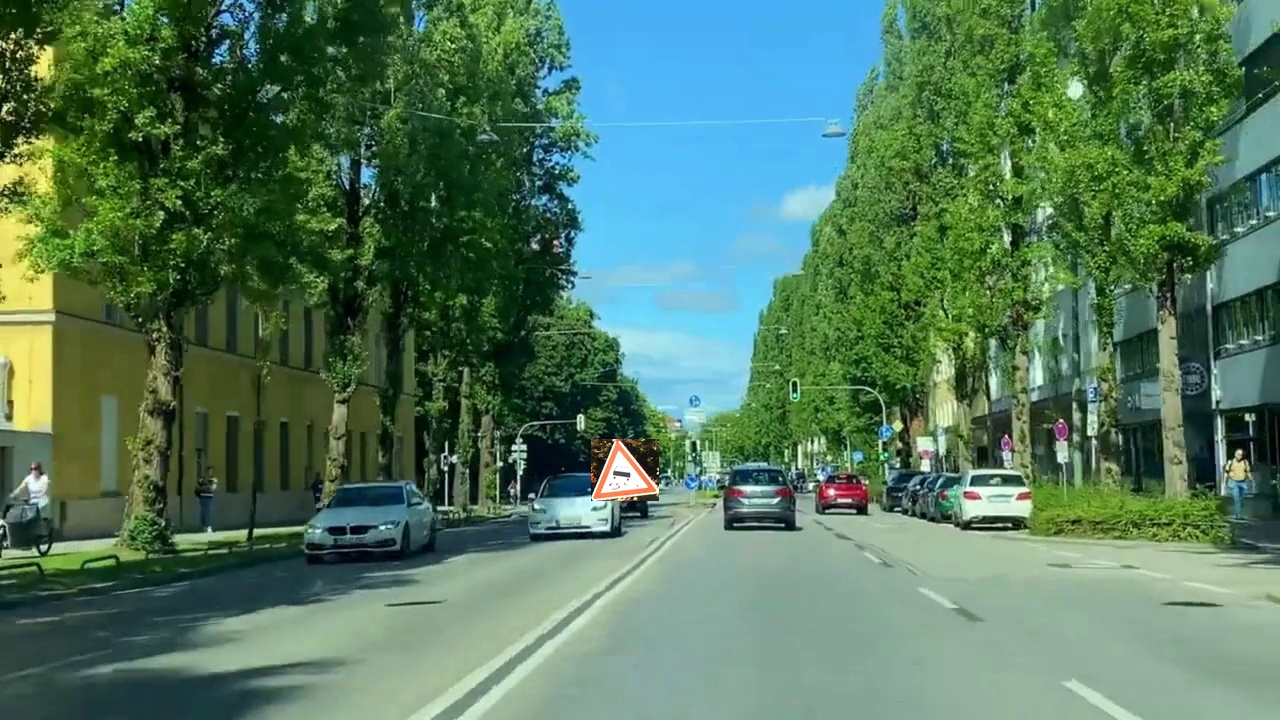Slippery: (591, 439, 659, 501)
